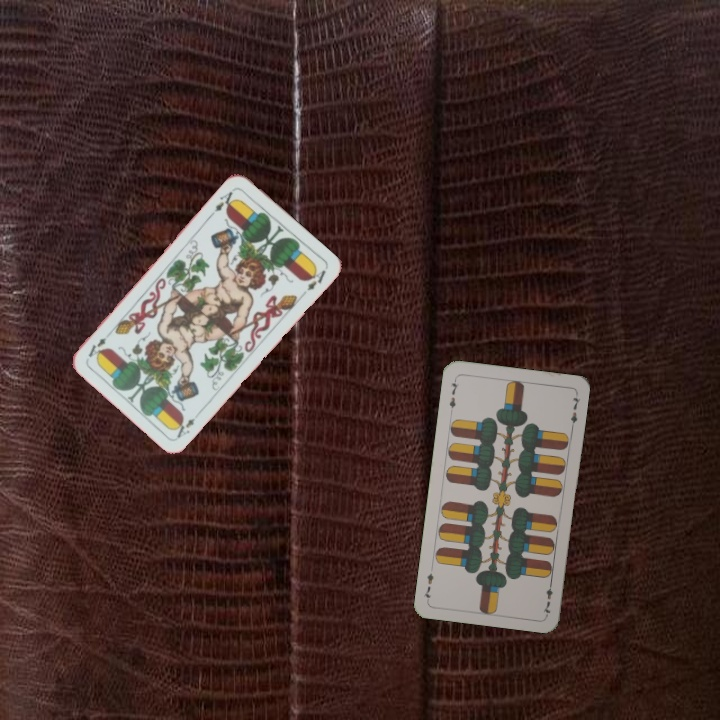E7: (445, 375, 461, 415), (539, 577, 555, 617)
EA: (170, 407, 203, 440), (211, 185, 239, 215)
